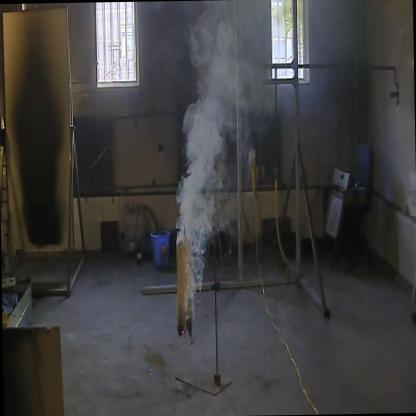smoke: (174, 0, 280, 228)
